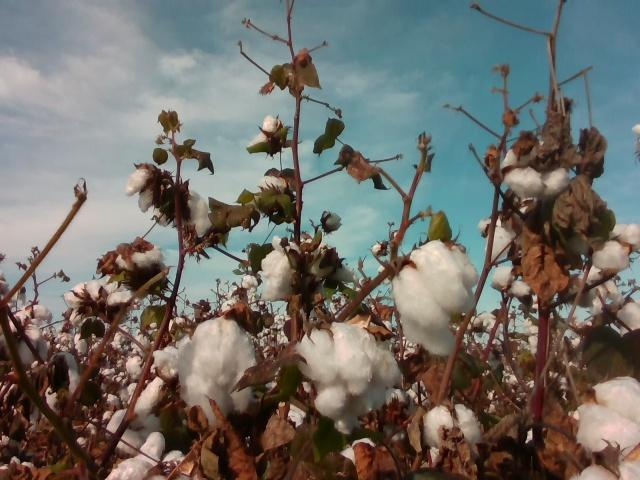cotton_ready: (296, 320, 399, 433), (395, 239, 480, 357), (178, 317, 259, 425), (574, 375, 640, 480), (107, 376, 170, 455), (105, 430, 193, 480), (501, 145, 574, 201), (583, 223, 640, 286), (423, 405, 484, 453), (486, 199, 531, 263), (0, 310, 48, 367), (260, 236, 295, 302), (125, 162, 167, 214), (64, 278, 137, 307), (584, 273, 627, 321), (247, 115, 288, 156), (181, 189, 213, 237), (490, 266, 533, 299), (115, 244, 166, 269), (152, 347, 182, 378), (258, 173, 290, 196), (619, 301, 640, 336), (152, 198, 175, 227)
